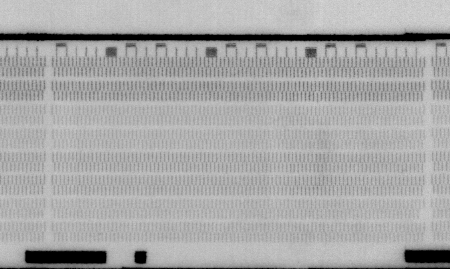Broken hole: (418, 209, 430, 221)
Oblique printing: (312, 92, 324, 105)
